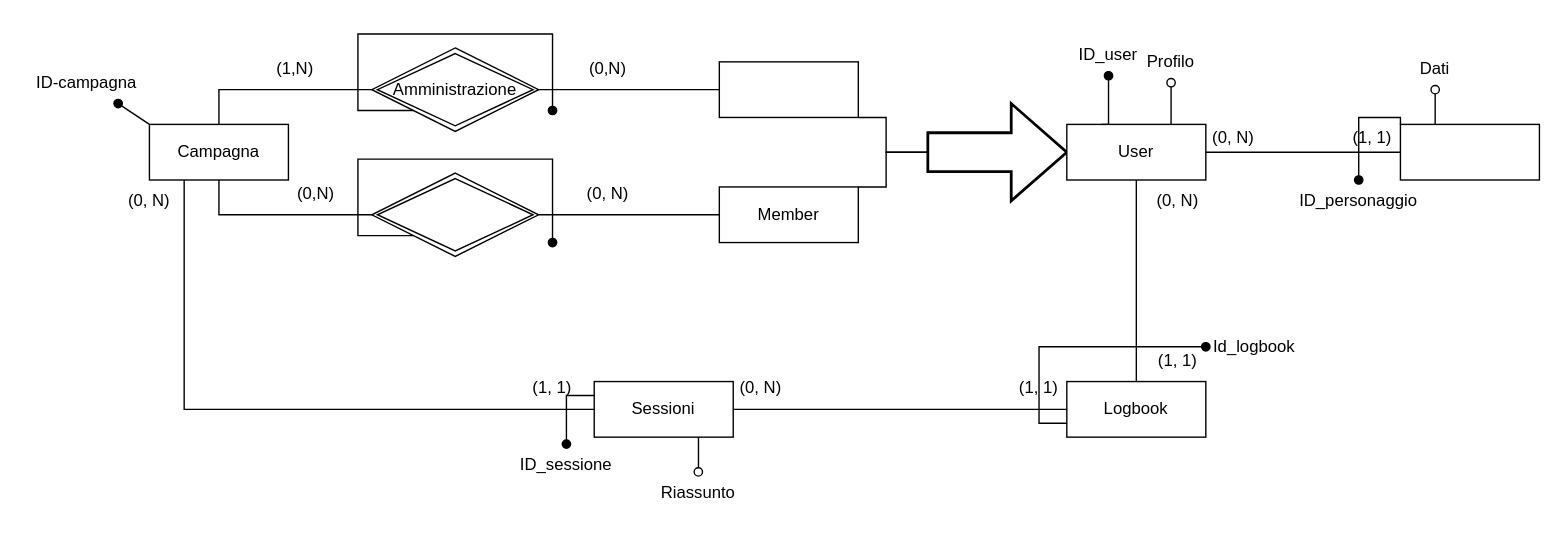
Image size: 1564x538. Some labels were removed from this diagram. Each missing label, with the centre of its shape:
Admin: (788,88)
Partecipa: (454,214)
Personaggi: (1469,151)
